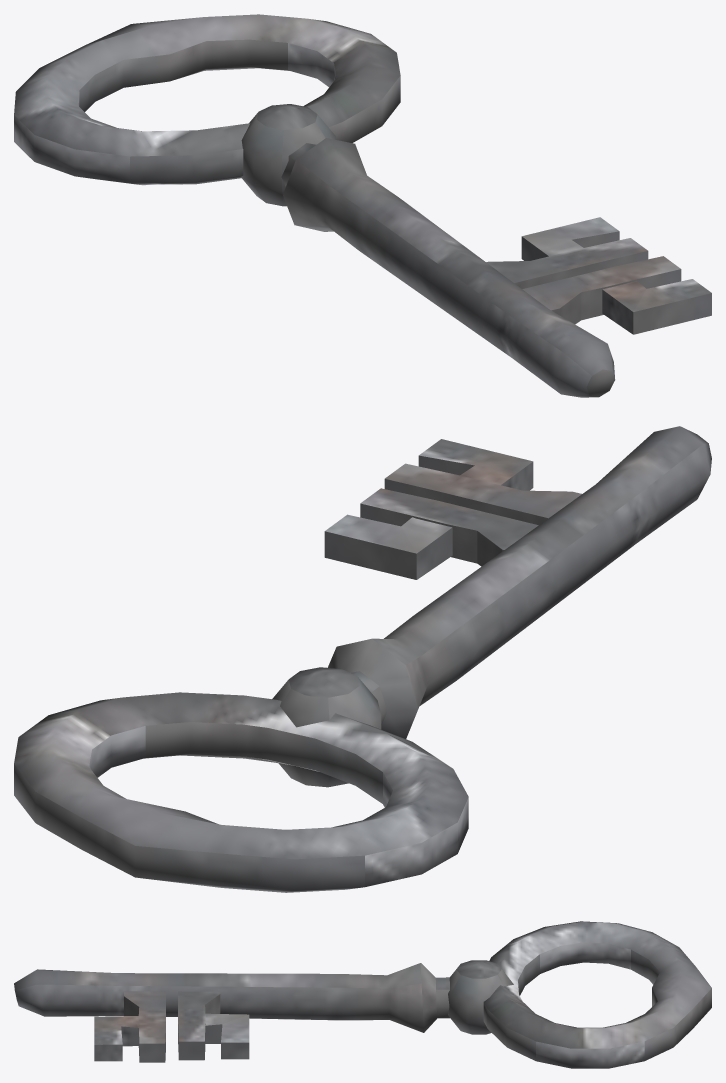
File: tr_key_iron.glb
The picture shows the model from 3 angles, top to bottom: view 1: azimuth 30°, elevation 25°; view 2: azimuth 150°, elevation 25°; view 3: azimuth 270°, elevation 25°; orthographic projection. The views are drawn at different scales.
Parts seen in each view (by area): view 1: model; view 2: model; view 3: model.
Boxes of the visible parts, bbox=[...] form: model: bbox=[14, 14, 711, 397]; model: bbox=[14, 426, 711, 892]; model: bbox=[14, 921, 711, 1068].
Bounding box in the file's own units: 0.0719 × 0.0186 × 0.1666.
1 material, 1 textured.
